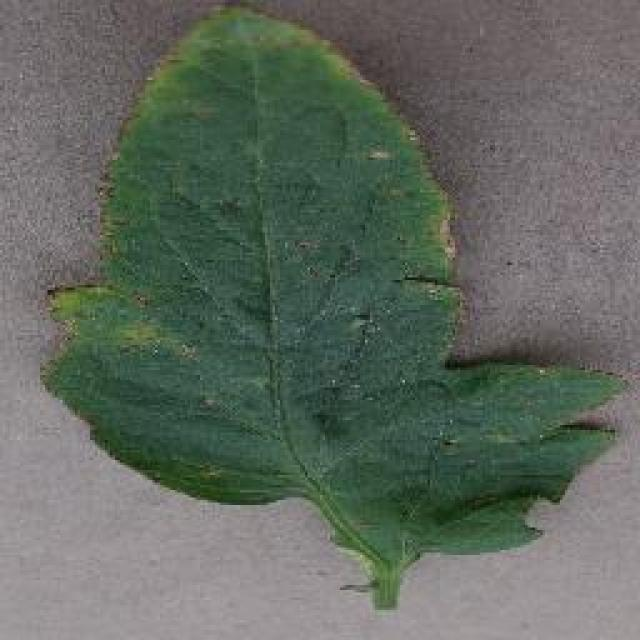Tomato___Bacterial_spot: (29, 4, 636, 610)
